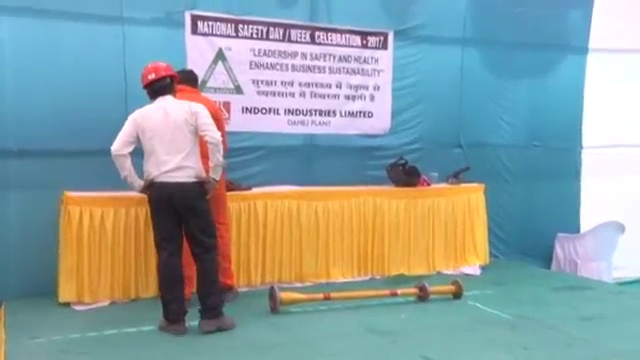helmet: (140, 61, 180, 89)
helmet_off: (175, 68, 199, 91)
helmet_on: (139, 61, 181, 104)
person: (109, 60, 231, 336), (171, 64, 236, 301)
